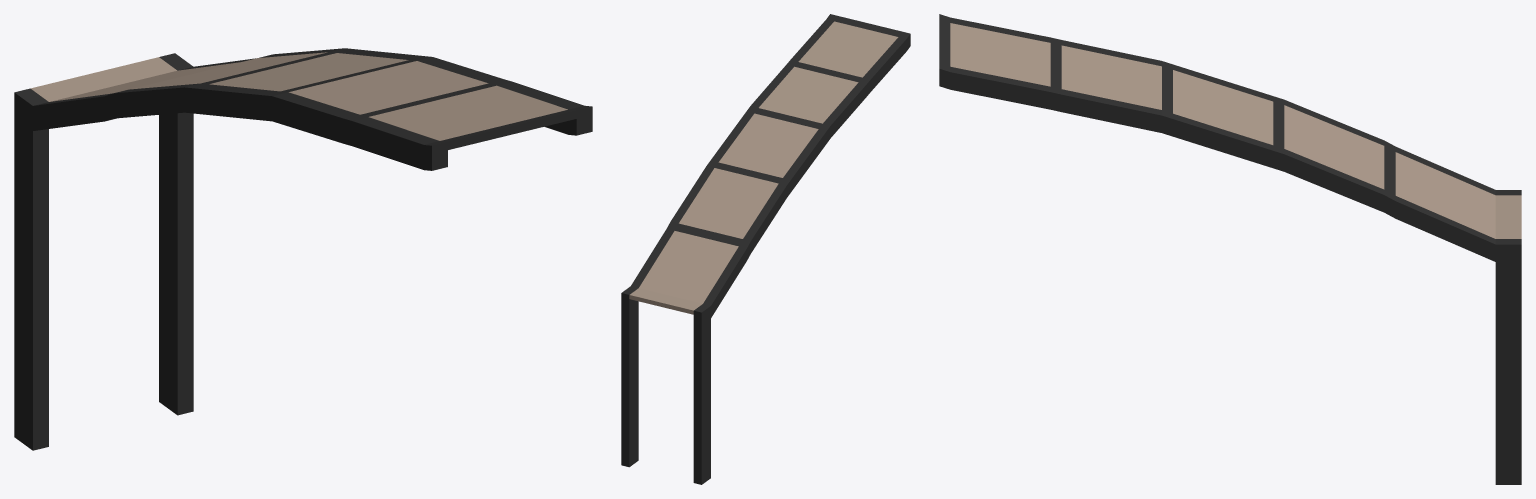
Rendered from Grandstand Roof.fbx.
3 views of the same model, side by side, from view 1: azimuth 30°, elevation 25°; view 2: azimuth 150°, elevation 25°; view 3: azimuth 270°, elevation 25° (orthographic). The views are drawn at different scales.
Parts seen in each view (by area): view 1: Grandstand Roof; view 2: Grandstand Roof; view 3: Grandstand Roof.
Part boxes in pixels (box(x1,y1,x2,y2)): Grandstand Roof: box(14, 48, 592, 450); Grandstand Roof: box(621, 14, 910, 484); Grandstand Roof: box(939, 14, 1521, 484).
Bounding box in the file's own units: 1000 × 3550 × 4500.
